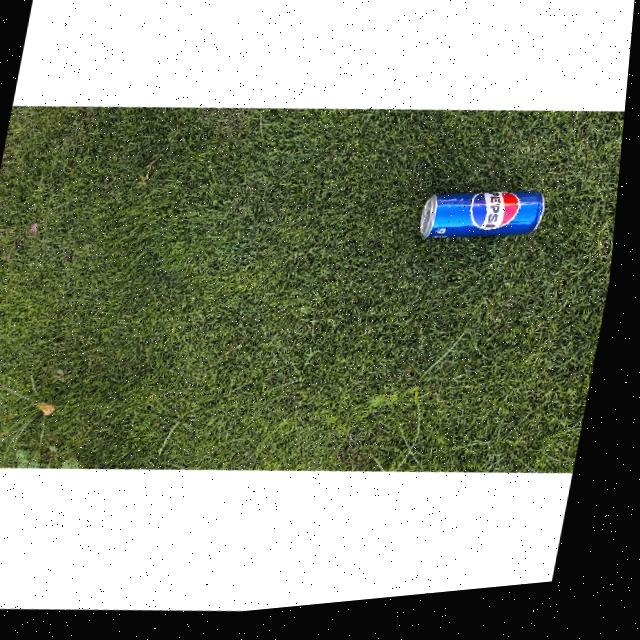Pepsi: (421, 190, 552, 262)
